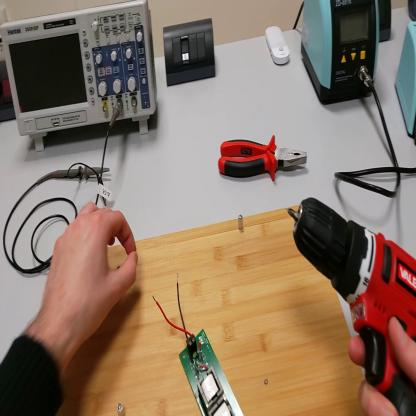electric screwdriver: (288, 187, 416, 413)
hand: (43, 199, 138, 345), (350, 318, 416, 416)
high voltage board: (154, 275, 244, 414)
oscilloscope: (1, 1, 160, 154)
oscilloscope probe tip: (48, 162, 113, 183)
pliers: (217, 138, 307, 184)
socket: (380, 2, 392, 45)
welder base: (394, 21, 416, 149)
welder station: (304, 2, 381, 105)
working area: (58, 205, 368, 416)
